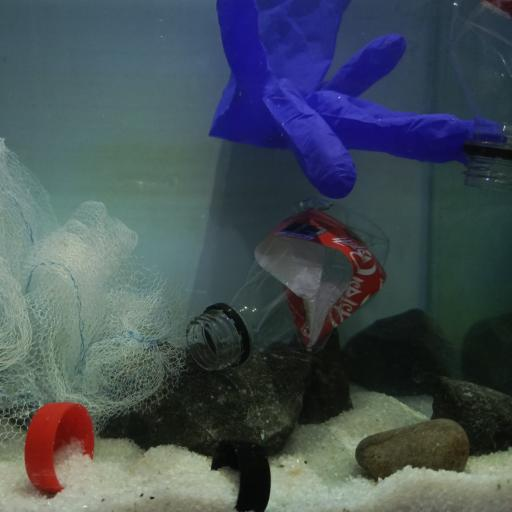bottle_cap: (27, 400, 91, 496), (212, 438, 270, 512)
glove: (211, 0, 512, 197)
net: (3, 133, 186, 457)
plastic_bottle: (184, 198, 395, 373), (448, 0, 511, 195)
